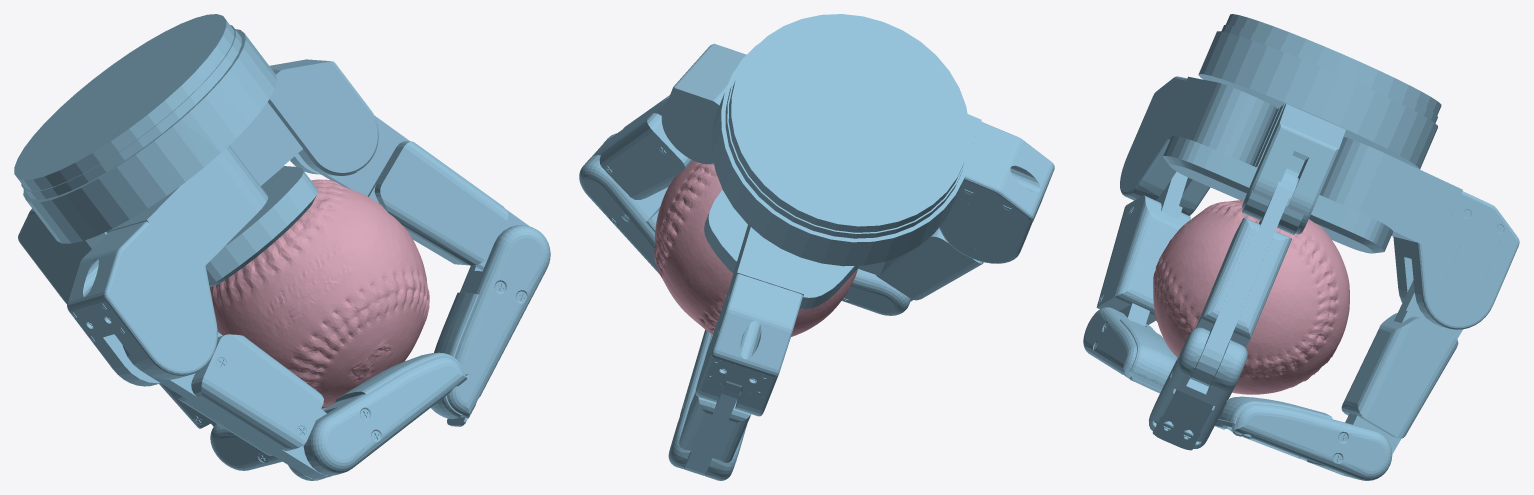
3 views of the same model, side by side, from view 1: azimuth 30°, elevation 25°; view 2: azimuth 150°, elevation 25°; view 3: azimuth 270°, elevation 25° (orthographic). The views are drawn at different scales.
Parts seen in each view (by area): view 1: world; view 2: world; view 3: world.
Boxes of the visible parts, <box> form: world: <box>14,14,550,480</box>; world: <box>579,14,1054,480</box>; world: <box>1083,14,1519,480</box>.
Bounding box in the file's own units: 0.178 × 0.1721 × 0.1609.
